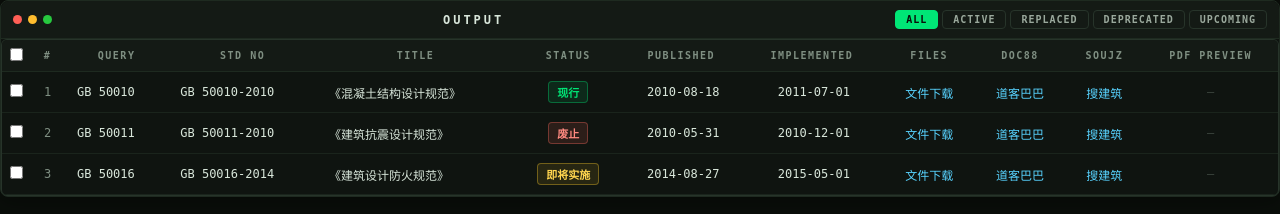
Test case: resultsTable › selects a row via checkbox
The width and height of the screenshot is (1280, 214).
Click the checkbox named "选择第 1 行" at coordinates (16, 90), box 10,84 -> 22,97
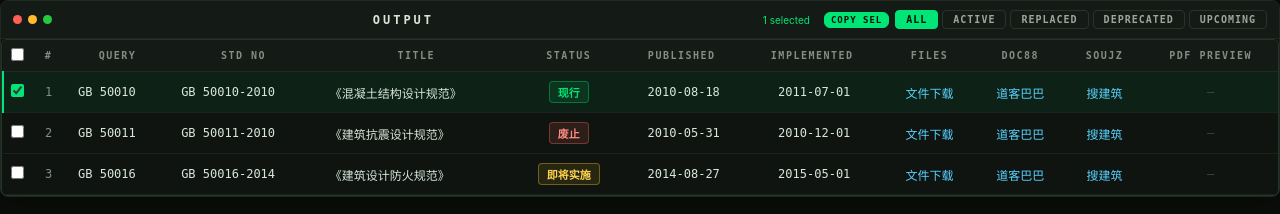
Result: the text with class "selected-hint" reads "1 selected" at 763,14 -> 810,26
